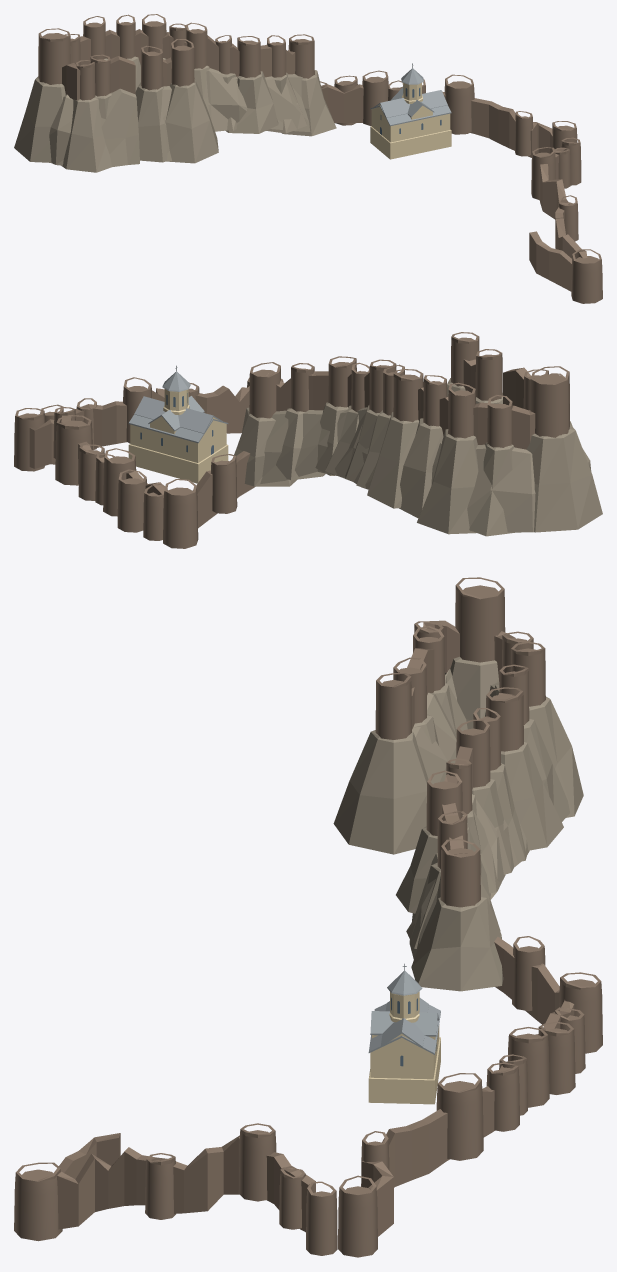
The model's file is tbilisi-narikala.glb.
3 views of the same model, one above another, from view 1: azimuth 30°, elevation 25°; view 2: azimuth 150°, elevation 25°; view 3: azimuth 270°, elevation 25° (orthographic). The views are drawn at different scales.
Visible parts, largest first — view 1: Narikala Fortress; view 2: Narikala Fortress; view 3: Narikala Fortress.
Boxes of the visible parts, bbox=[...] form: Narikala Fortress: bbox=[14, 14, 602, 303]; Narikala Fortress: bbox=[14, 332, 602, 548]; Narikala Fortress: bbox=[14, 577, 602, 1257].
Size of the model in its own units: 179 by 82.89 by 120.
